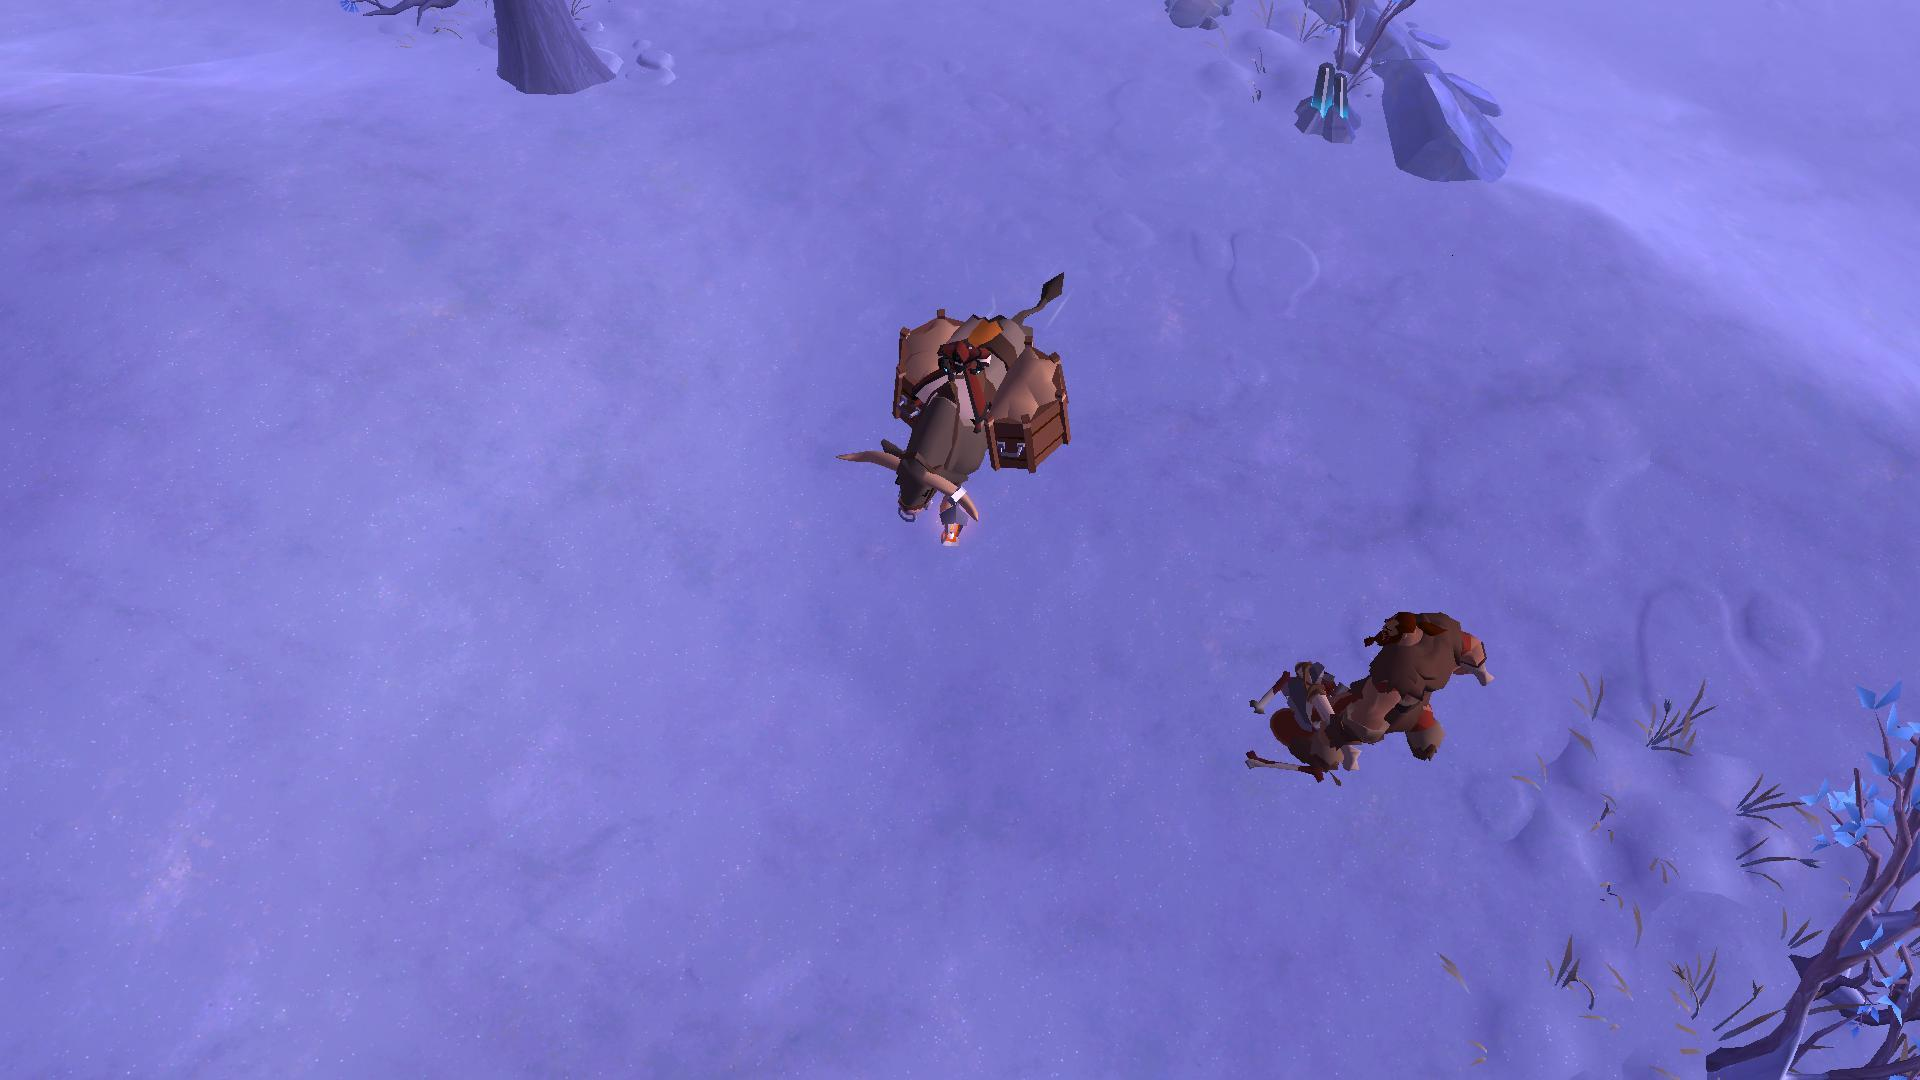enemy_factionKeeper: (1320, 583, 1493, 766)
ore_t4: (1303, 54, 1354, 131)
